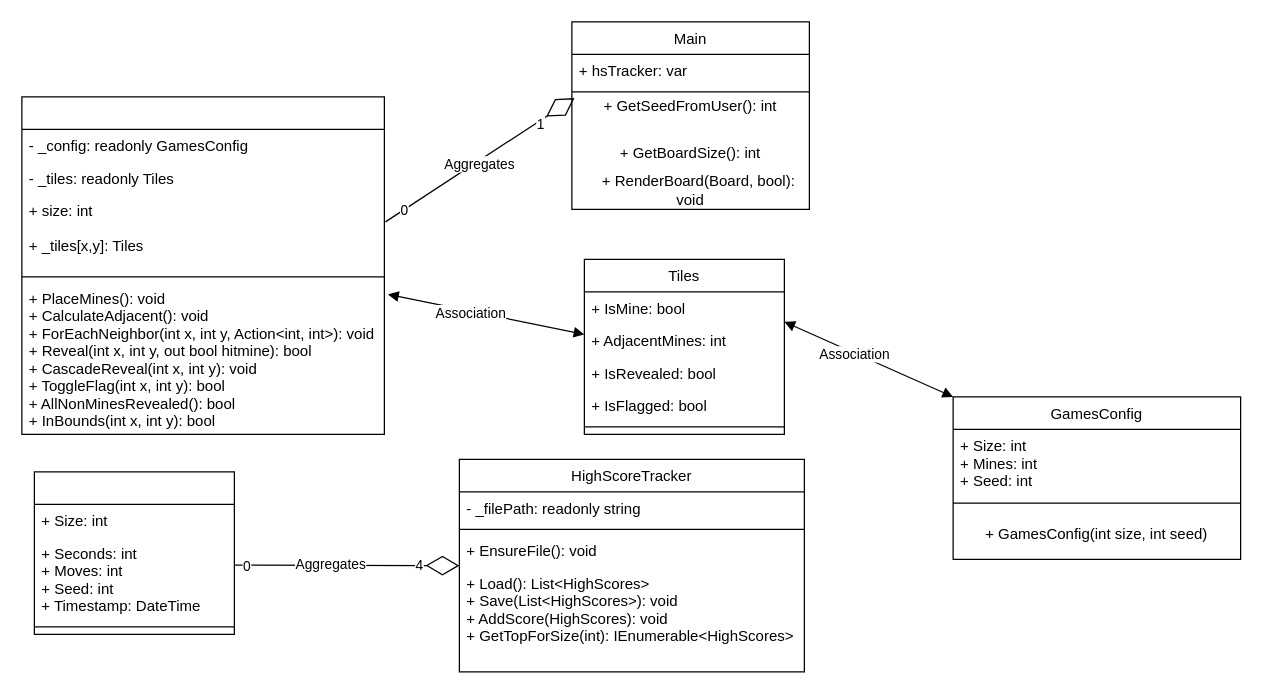
Some shapes in this 1263 by 698 pixel diagram are drawn without their labels. The box of each missing label's shape, as (x1, y1, x2, y2) in pixels:
Board: (21, 96, 384, 434)
HighScores: (33, 471, 234, 634)
